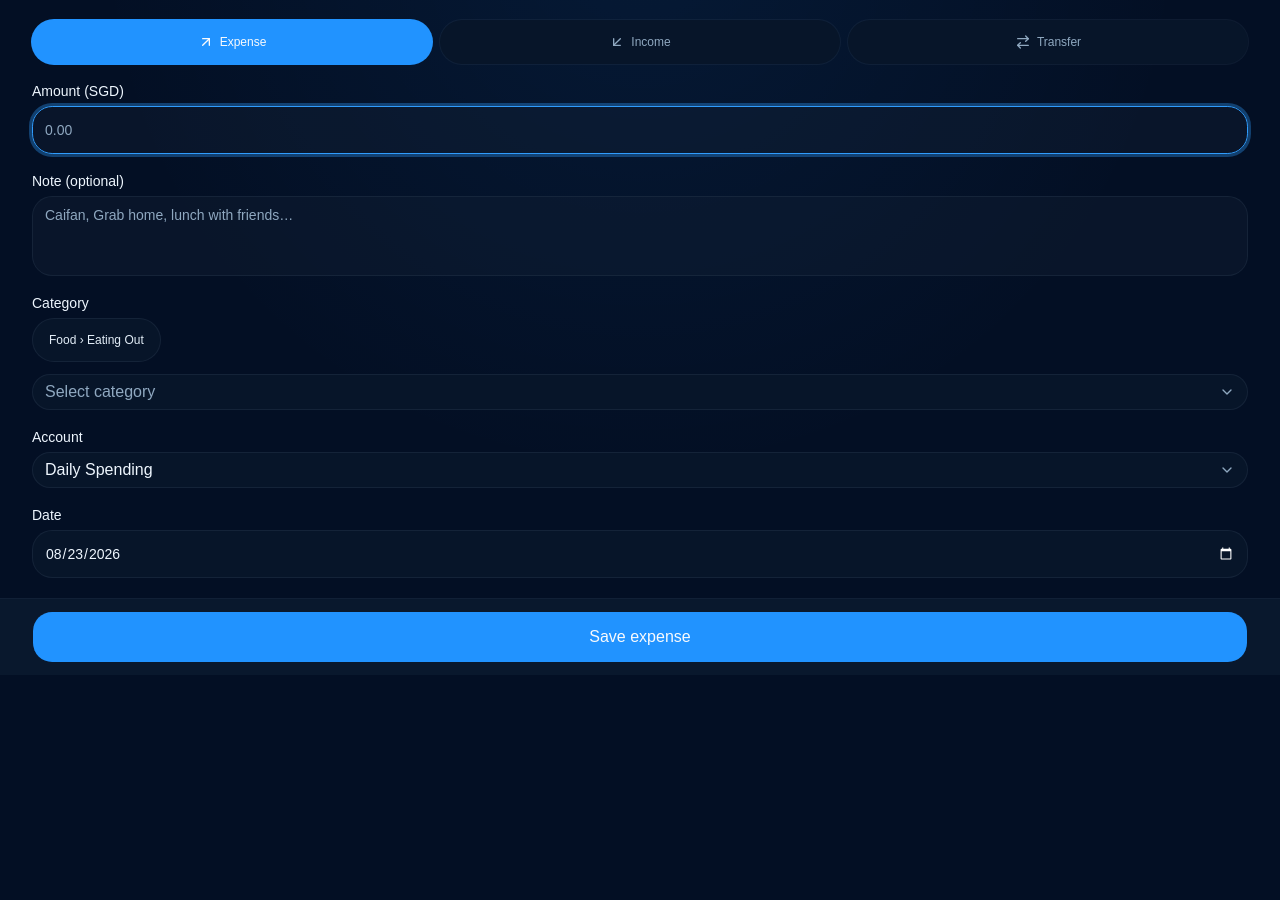
Test case: Add Transaction form › selects a past Note and active category without changing amount, account, or date
This screenshot has width=1280, height=900.
In the field named "Amount": (640, 130) x1=32 y1=106 x2=1248 y2=154, type "6.25"
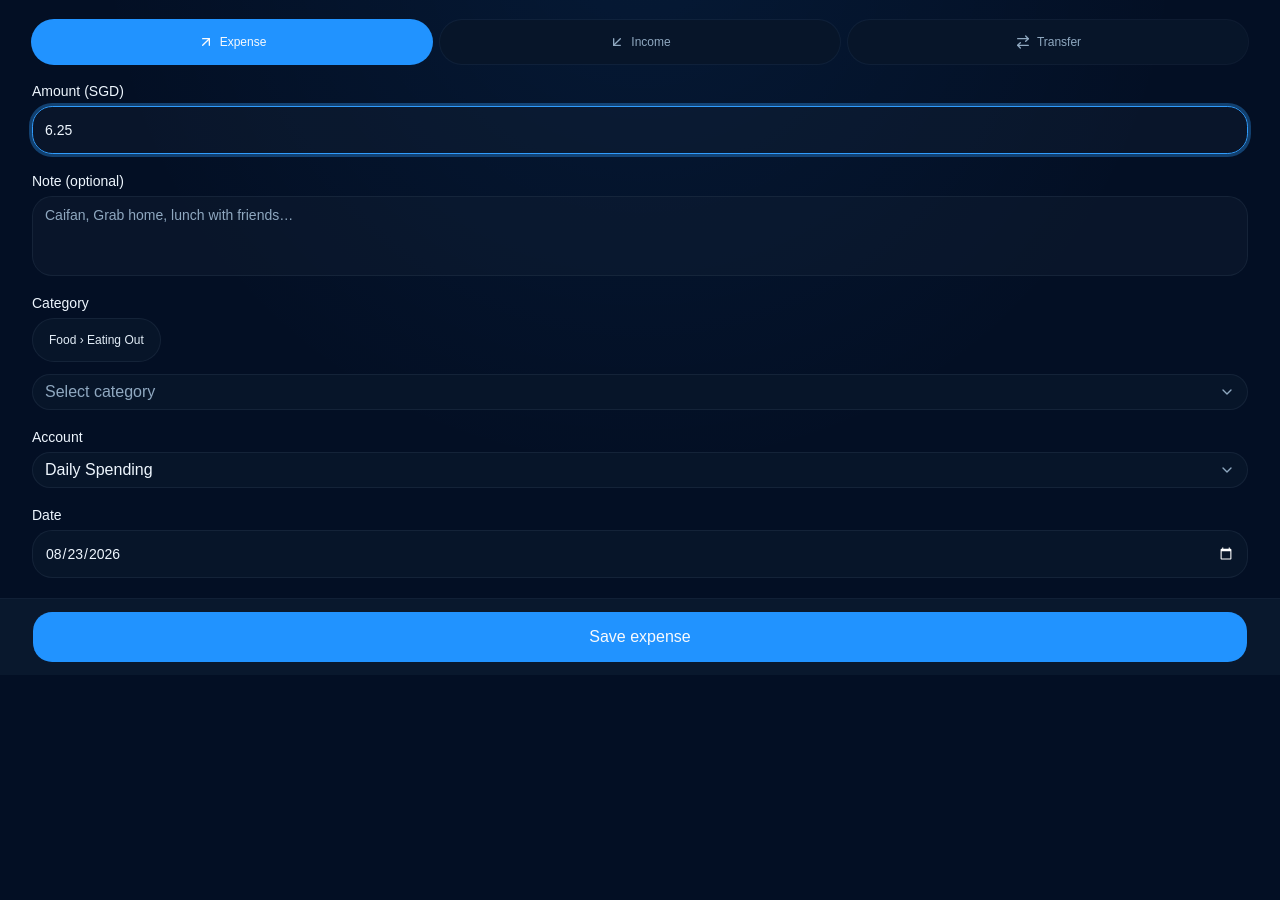
In the date field named "Date": (640, 554) x1=32 y1=530 x2=1248 y2=578, type "2026-08-22"
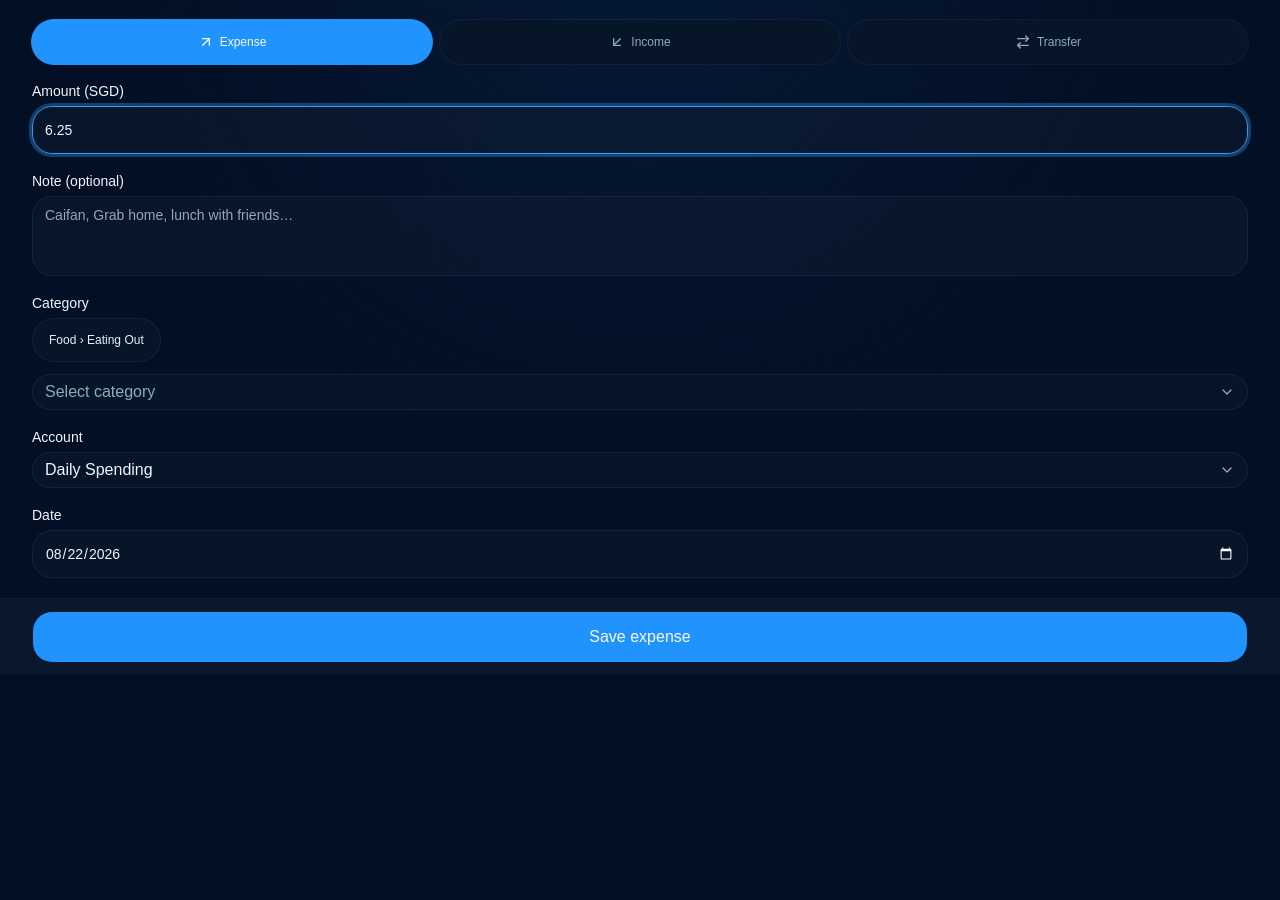
In the text box named "Note": (640, 236) x1=32 y1=196 x2=1248 y2=276, type "wa"
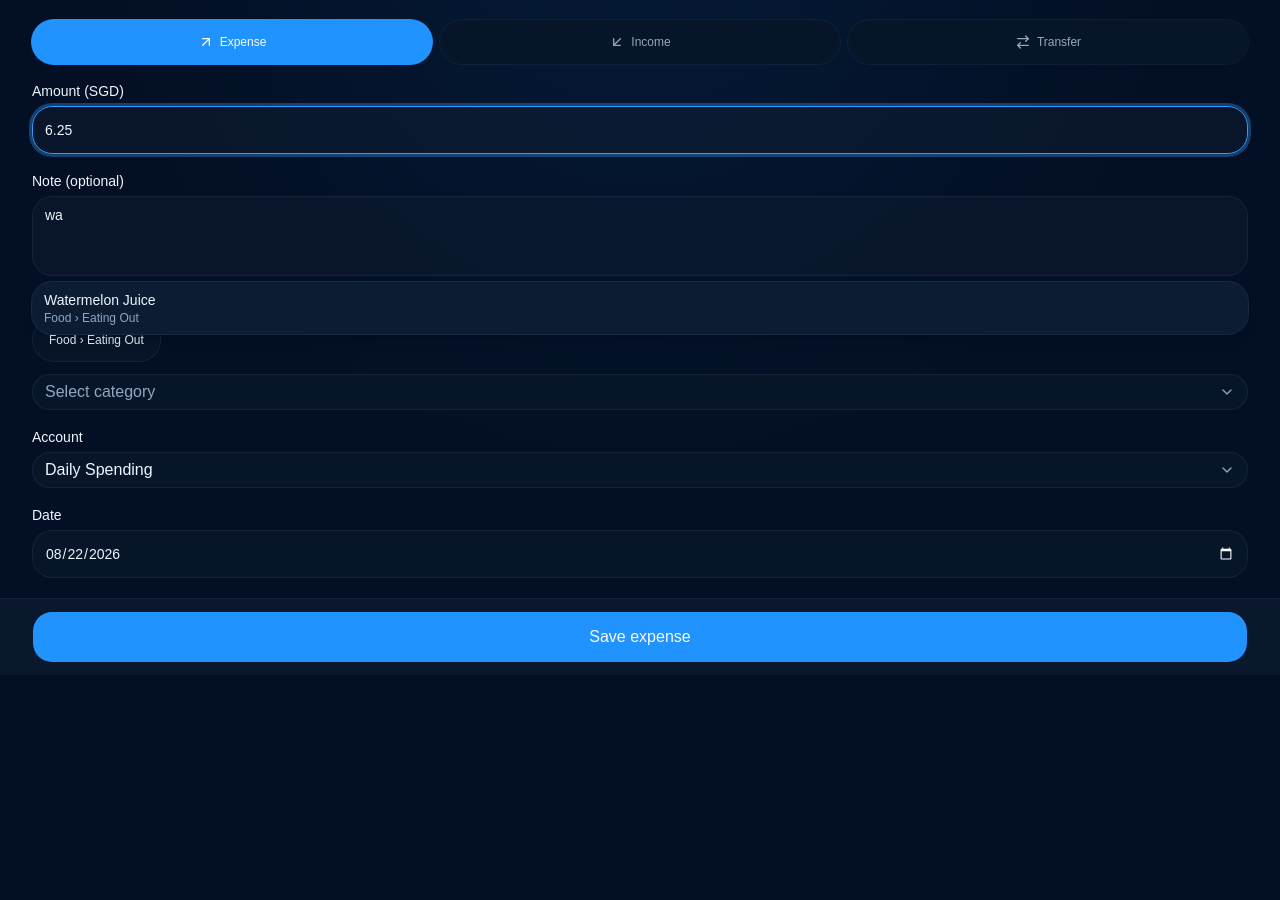
Click the option "Watermelon Juice Food › Eating Out": (100, 300) x1=32 y1=282 x2=1248 y2=334
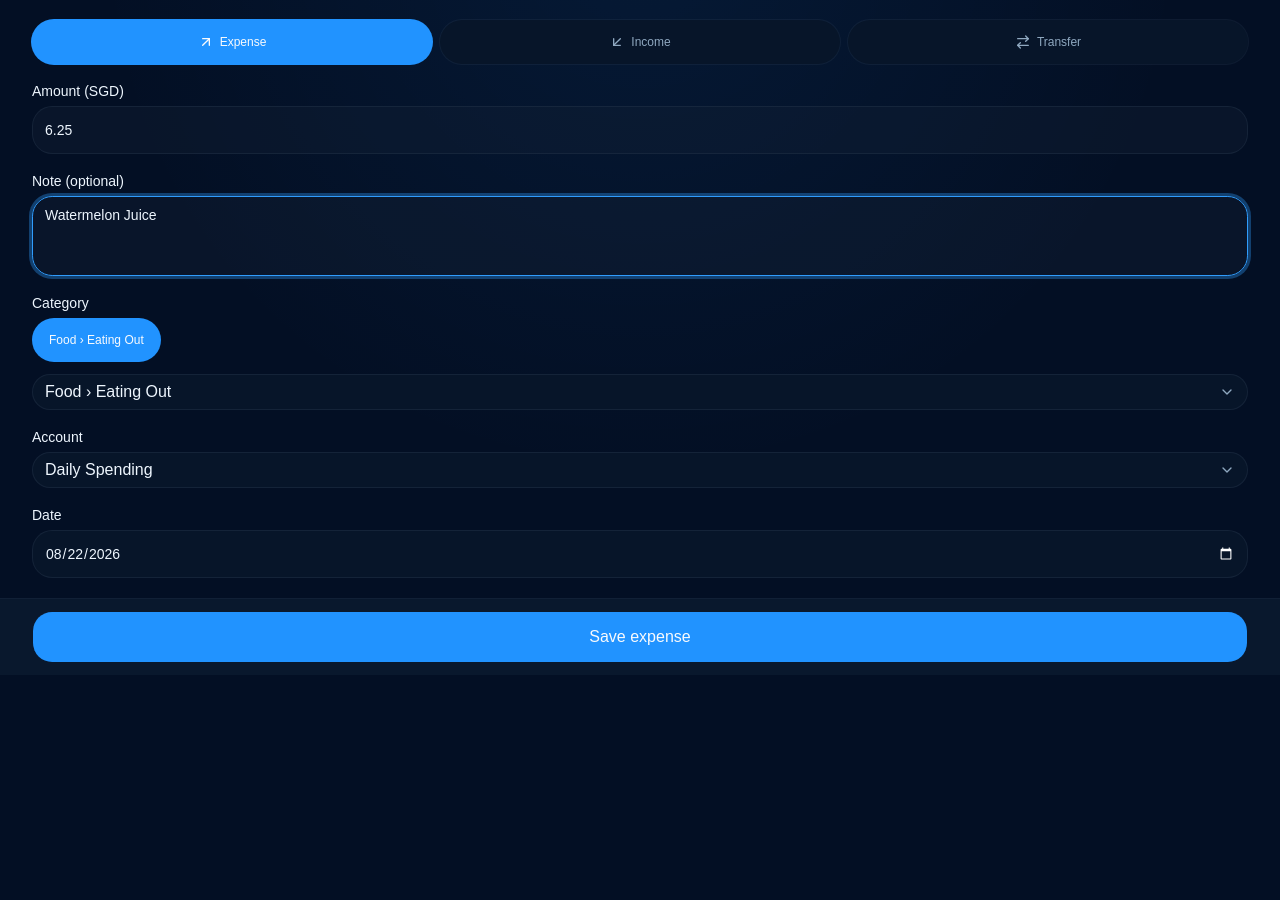
Expected: the dropdown named "Account" shows "Daily Spending", x1=32 y1=452 x2=1248 y2=488
Now the text box named "Note" holds "Watermelon Juice", box x1=32 y1=196 x2=1248 y2=276
